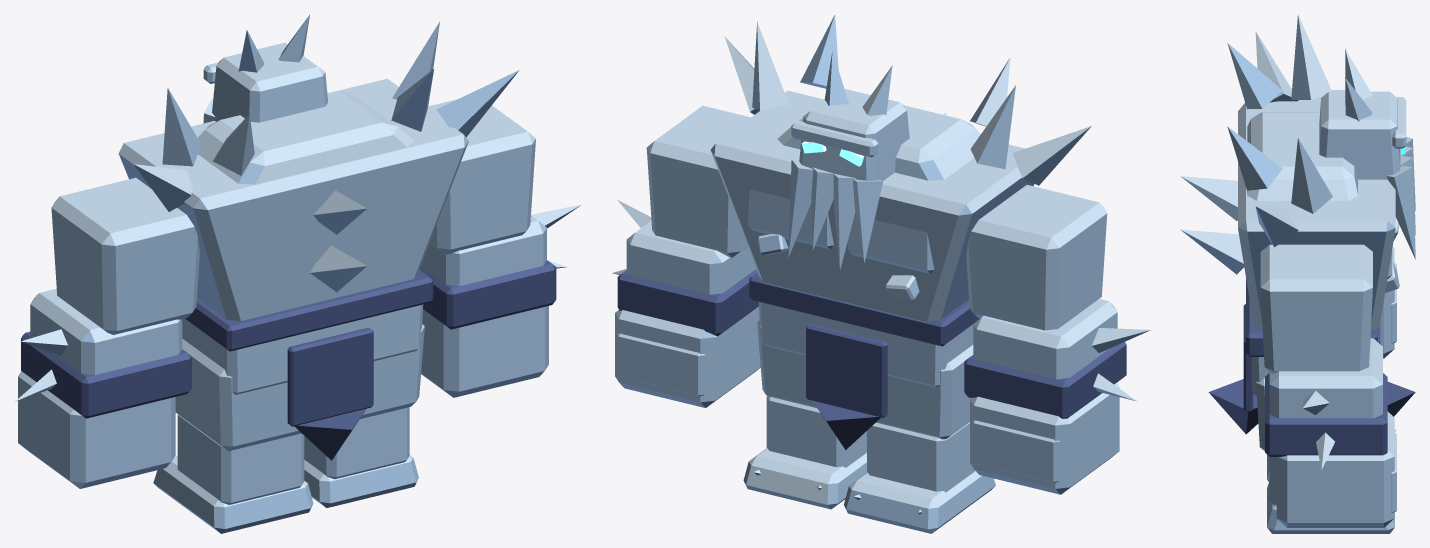
File: ice_giant.glb
3 views of the same model, side by side, from view 1: azimuth 30°, elevation 25°; view 2: azimuth 150°, elevation 25°; view 3: azimuth 270°, elevation 25° (orthographic). The views are drawn at different scales.
Visible parts, largest first — view 1: Torso, ArmL, ArmR, Hips, LegL, LegR; view 2: Torso, ArmL, ArmR, Hips, LegL, LegR; view 3: Torso, ArmR, Hips, LegR, ArmL.
Part boxes in pixels (<box>): Torso: <box>118,14,519,320</box>; ArmL: <box>15,177,199,488</box>; ArmR: <box>419,99,581,397</box>; Hips: <box>182,270,433,460</box>; LegL: <box>153,338,313,533</box>; LegR: <box>304,324,424,507</box>; Torso: <box>710,15,1091,322</box>; ArmL: <box>964,185,1150,494</box>; ArmR: <box>612,105,760,407</box>; Hips: <box>749,272,979,449</box>; LegL: <box>844,345,995,533</box>; LegR: <box>743,320,866,509</box>; Torso: <box>1180,14,1415,330</box>; ArmR: <box>1260,244,1396,527</box>; Hips: <box>1208,278,1415,434</box>; LegR: <box>1256,378,1394,533</box>; ArmL: <box>1298,90,1396,358</box>.
Bounding box in the file's own units: 2.56 × 2 × 1.
